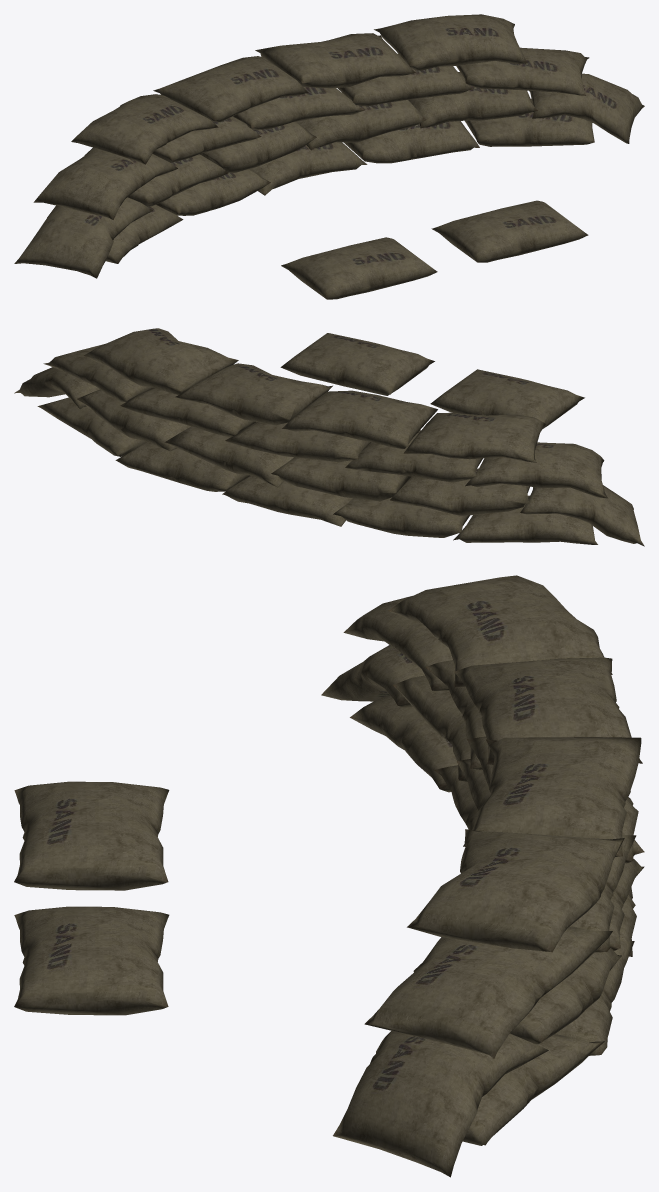
Rendered from sandbags_half.dae.
3 views of the same model, one above another, from view 1: azimuth 30°, elevation 25°; view 2: azimuth 150°, elevation 25°; view 3: azimuth 270°, elevation 25° (orthographic). The views are drawn at different scales.
Visible parts, largest first — view 1: set3, bag_low4, bag_low5; view 2: set3, bag_low5, bag_low4; view 3: set3, bag_low5, bag_low4.
Boxes of the visible parts, x1,y1,x2,y2 form: set3: (14,14,644,278); bag_low4: (281,237,437,299); bag_low5: (431,200,588,262); set3: (14,328,644,546); bag_low5: (280,333,434,395); bag_low4: (430,369,584,428); set3: (321,575,644,1177); bag_low5: (14,906,169,1015); bag_low4: (14,781,169,890).
Size of the model in its own units: 0.2623 by 0.1334 by 0.0467.
1 material, 1 textured.
